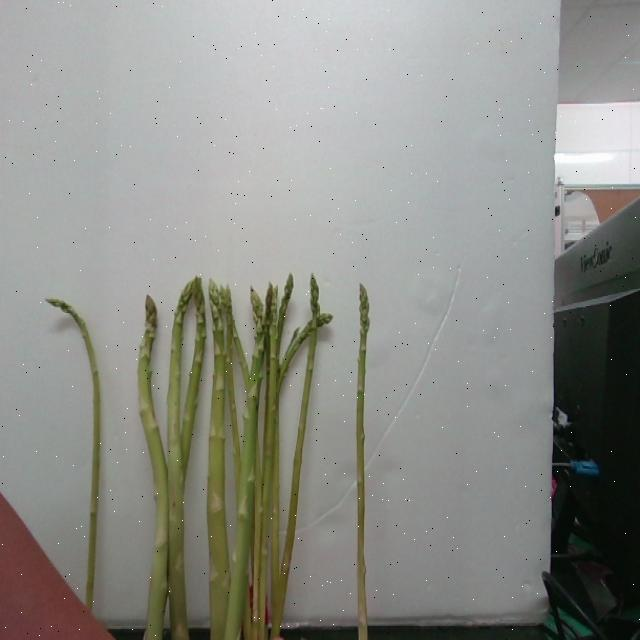aspargus: (49, 298, 105, 612), (355, 285, 374, 640)
